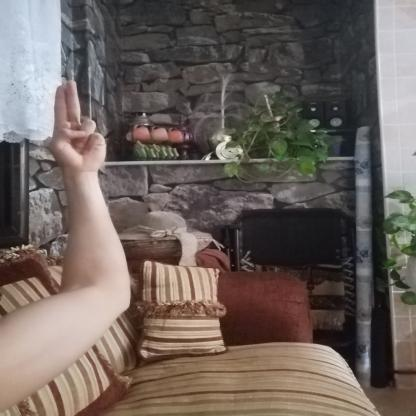TA: (35, 74, 119, 176)
